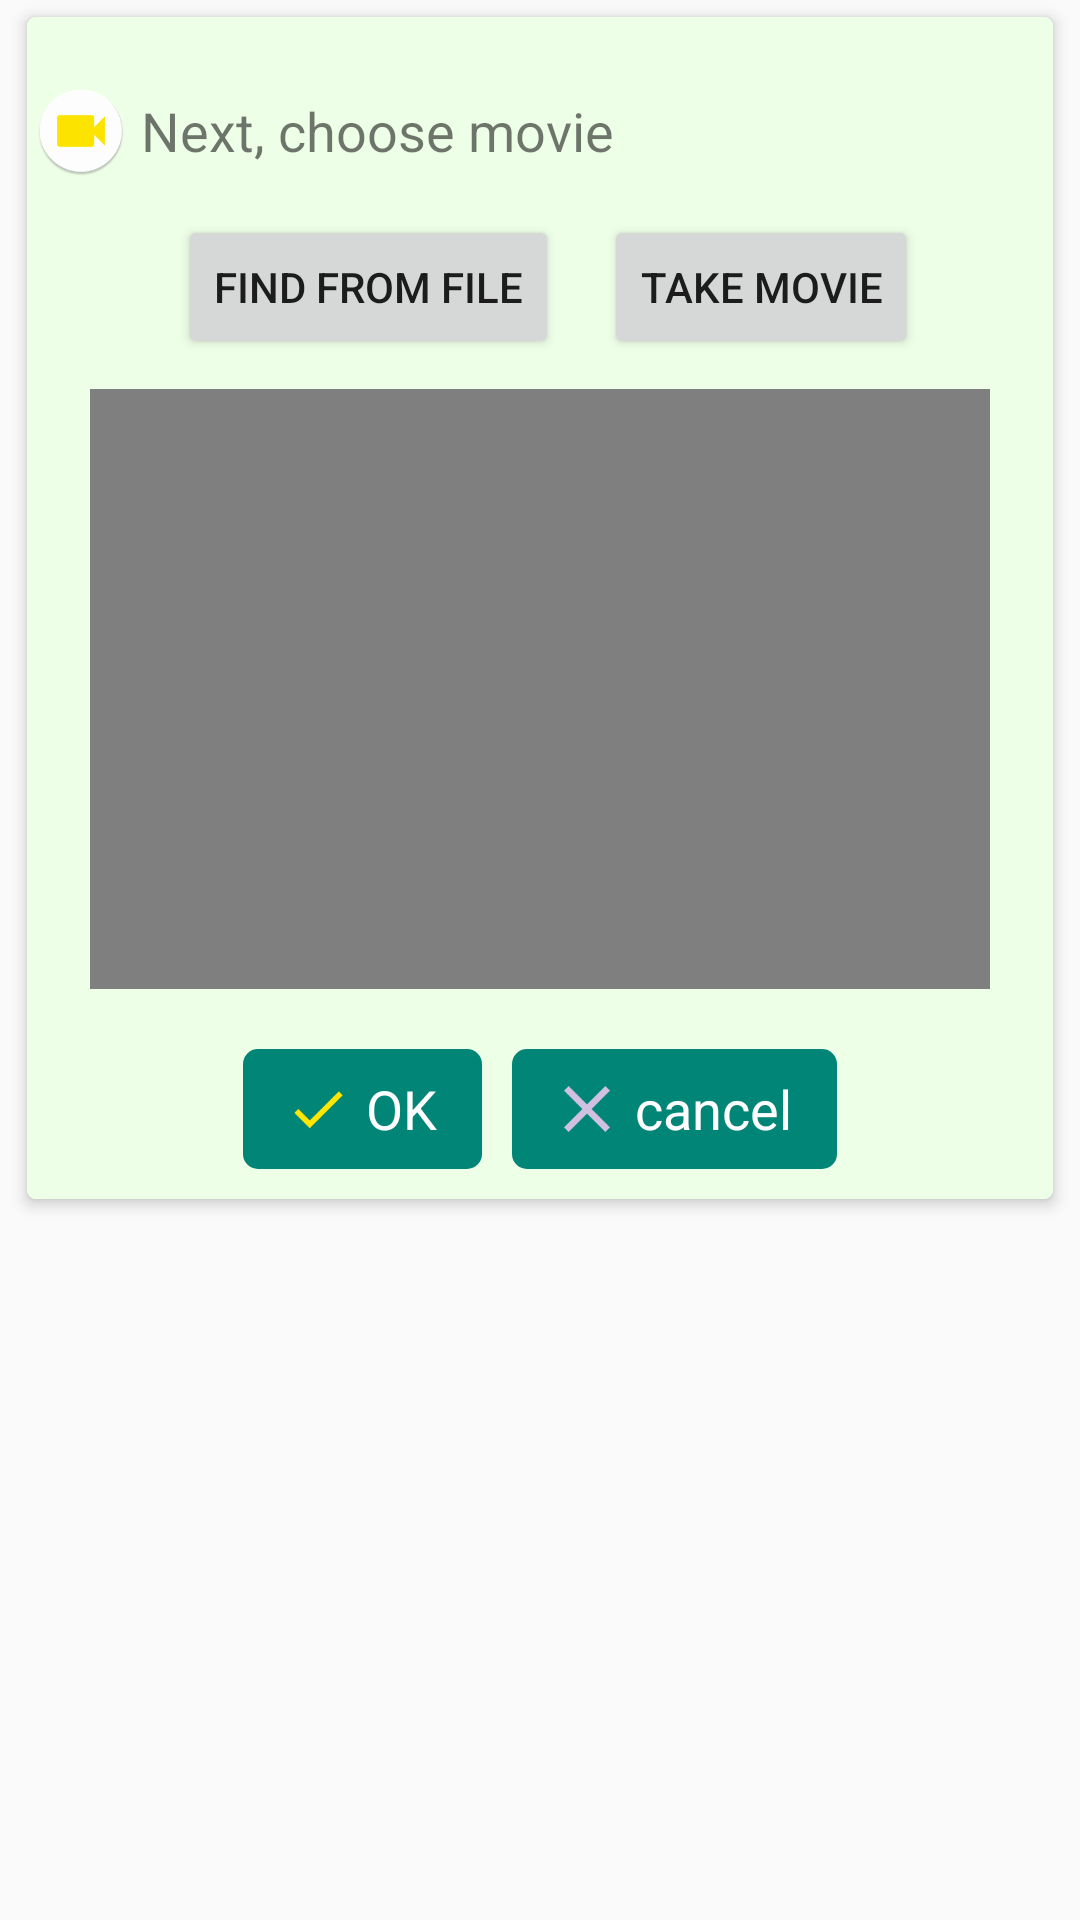

Icons on this 1080×1920 Android screen, each with the point to tap as point (x, y):
cam: point (81, 132)
check ok: point (318, 1110)
